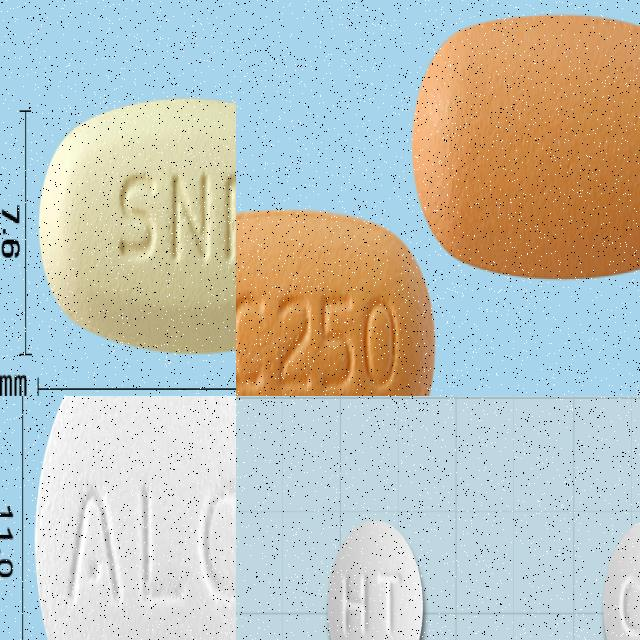A Progen Clarithromycin Tab-500mg: (37, 98, 236, 357)
Ceclacin: (409, 11, 640, 282), (236, 202, 438, 396)
Ciprofloxacin Hcl Tab- Arlico: (31, 396, 236, 640)
Craproxin: (325, 518, 423, 640), (601, 518, 640, 640)
